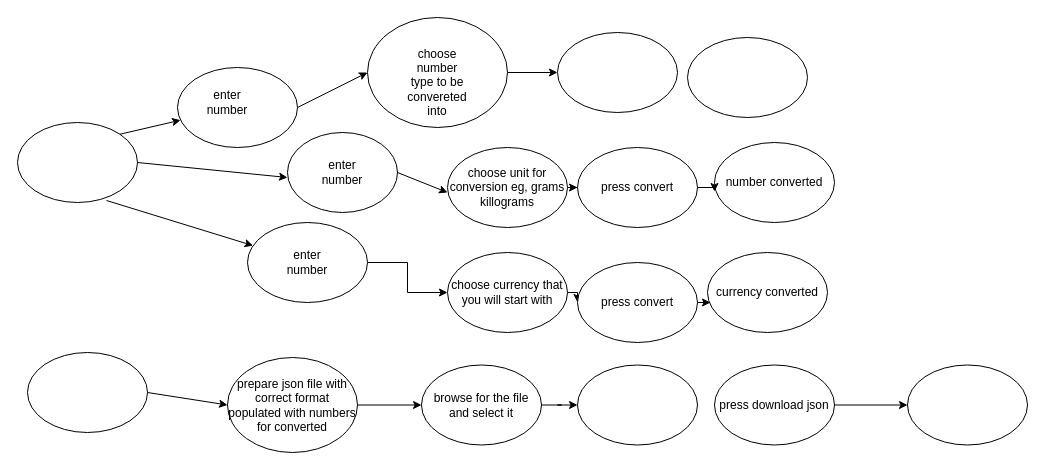
Image size: 1045x470. Some labels were removed from this diagram. The centre of each missing label's shape, as x and y in pixels:
"number converted into another" goes at [747,77].
"press convert number" goes at [617,72].
"press process batch button" goes at [637,404].
"proffesional user seaking batch currency conversion" goes at [87,392].
"returned json file to professional user" goes at [967,404].
"user" goes at [77,162].
